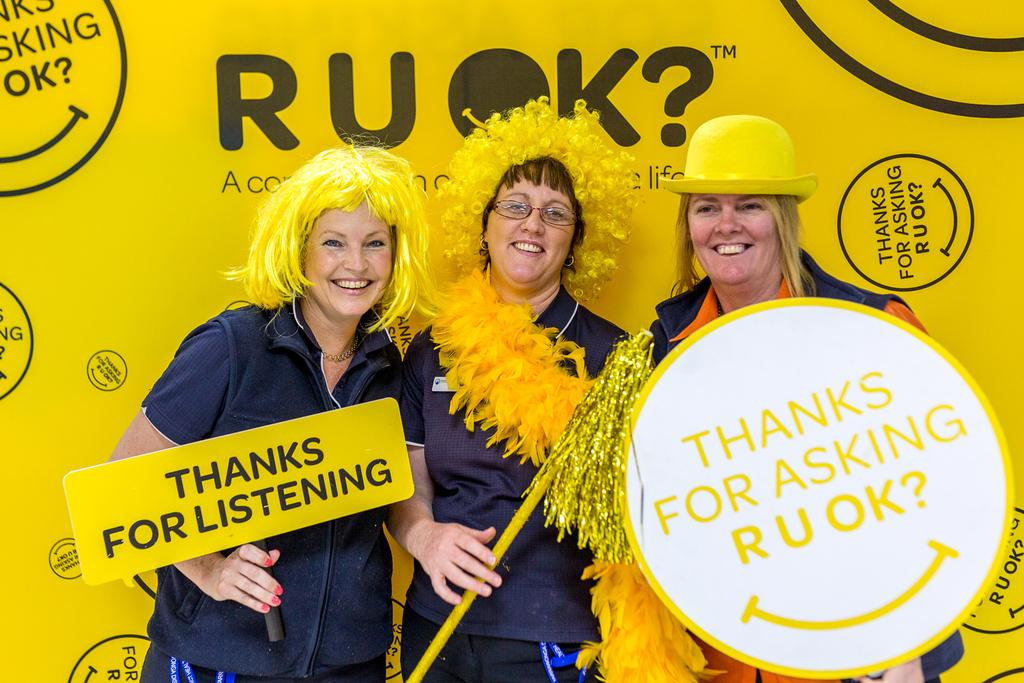Hat: (654, 116, 816, 208)
